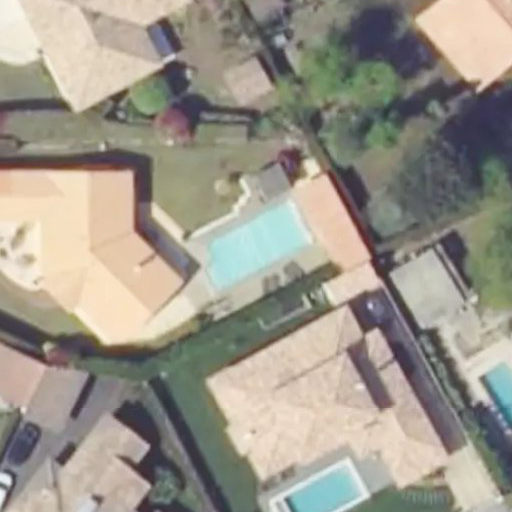pool: (203, 195, 312, 294), (265, 458, 374, 512), (473, 355, 512, 432)
